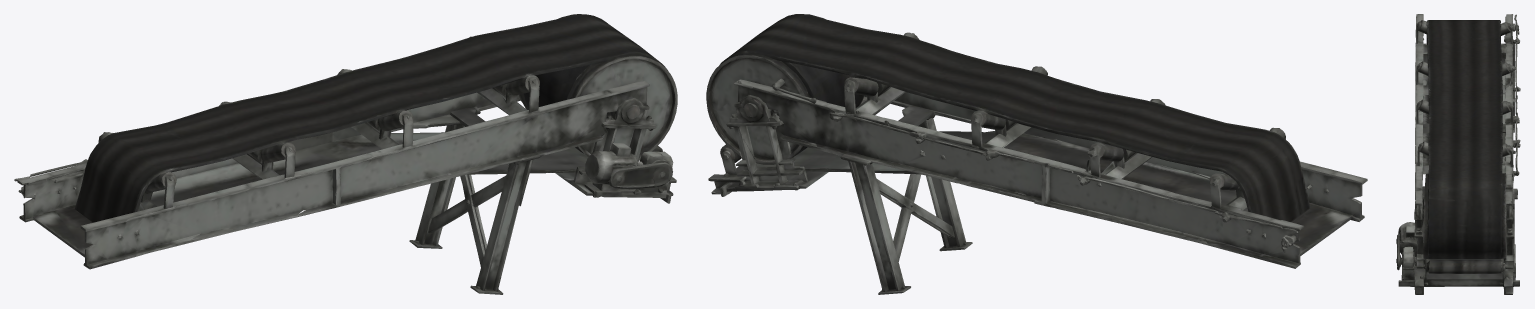
The model's file is conveyor_head_drive.glb.
The picture shows the model from 3 angles, left to right: view 1: azimuth 30°, elevation 25°; view 2: azimuth 150°, elevation 25°; view 3: azimuth 270°, elevation 25°; orthographic projection. The views are drawn at different scales.
Visible parts, largest first — view 1: main; view 2: main; view 3: main.
Boxes of the visible parts, left/top/right/bottom form: main: left=14, top=14, right=677, bottom=294; main: left=706, top=14, right=1367, bottom=294; main: left=1396, top=14, right=1520, bottom=294.
Bounding box in the file's own units: 3.61 × 1.2 × 0.9146.
Materials: 1 (1 with a texture image).
